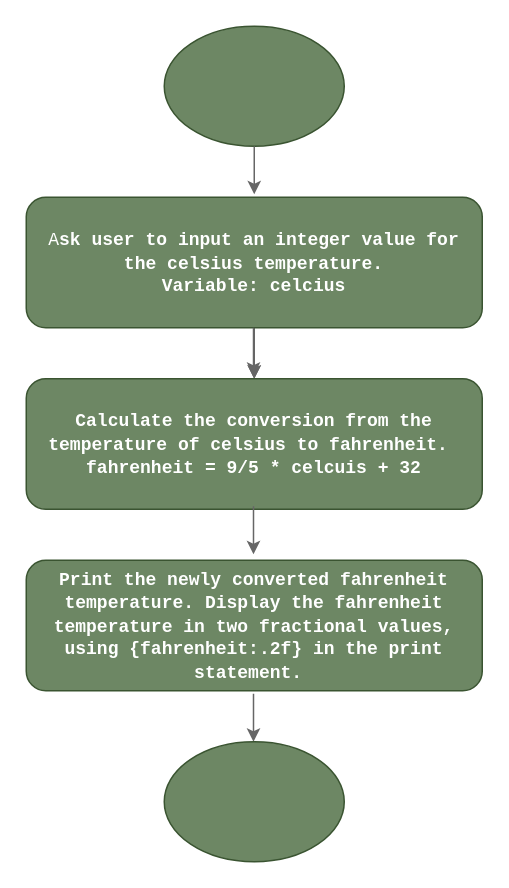
This 509x888 diagram has some shape labels left out. The shapes that lost their labels are listed below. From the top down, each one's box as (x1, y1, x2, y2) in pixels, then its label:
(163, 25, 344, 146): Start
(163, 740, 344, 862): End
